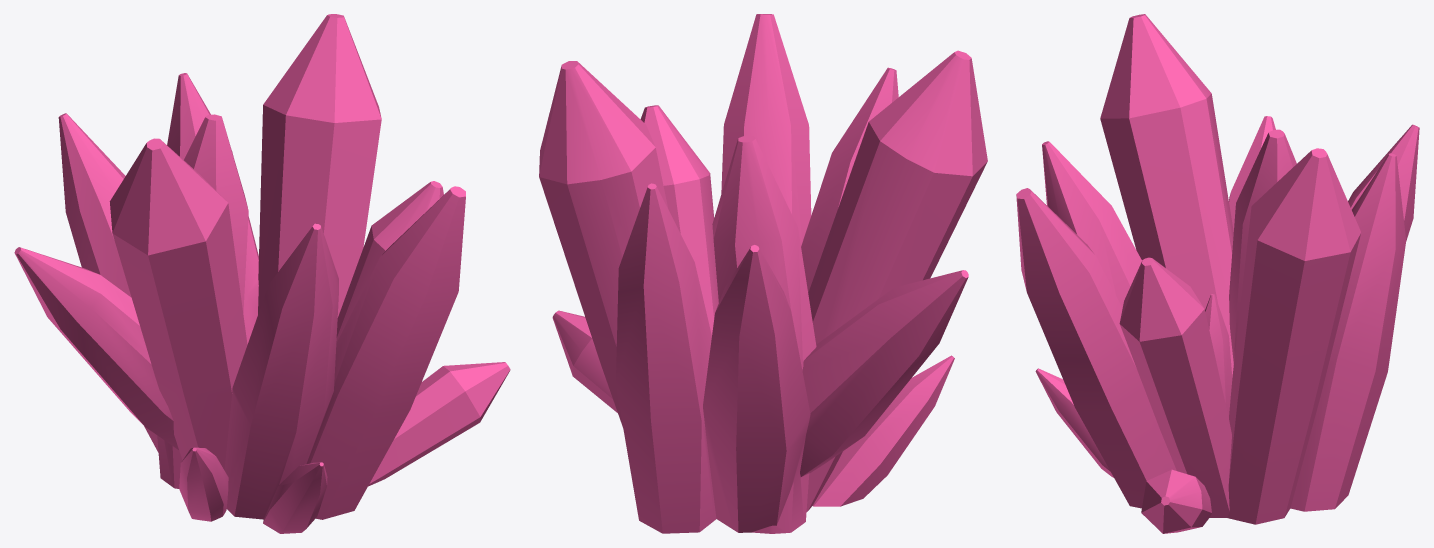
File: Prop_Crystal_Pink_01.fbx
3 views of the same model, side by side, from view 1: azimuth 30°, elevation 25°; view 2: azimuth 150°, elevation 25°; view 3: azimuth 270°, elevation 25° (orthographic). The views are drawn at different scales.
Parts seen in each view (by area): view 1: Prop_Crystal_Pink_01; view 2: Prop_Crystal_Pink_01; view 3: Prop_Crystal_Pink_01.
Boxes of the visible parts, x1,y1,x2,y2 form: Prop_Crystal_Pink_01: (14,14,510,533); Prop_Crystal_Pink_01: (539,14,987,533); Prop_Crystal_Pink_01: (1016,14,1419,533).
Bounding box in the file's own units: 49.76 × 44.62 × 40.72.
